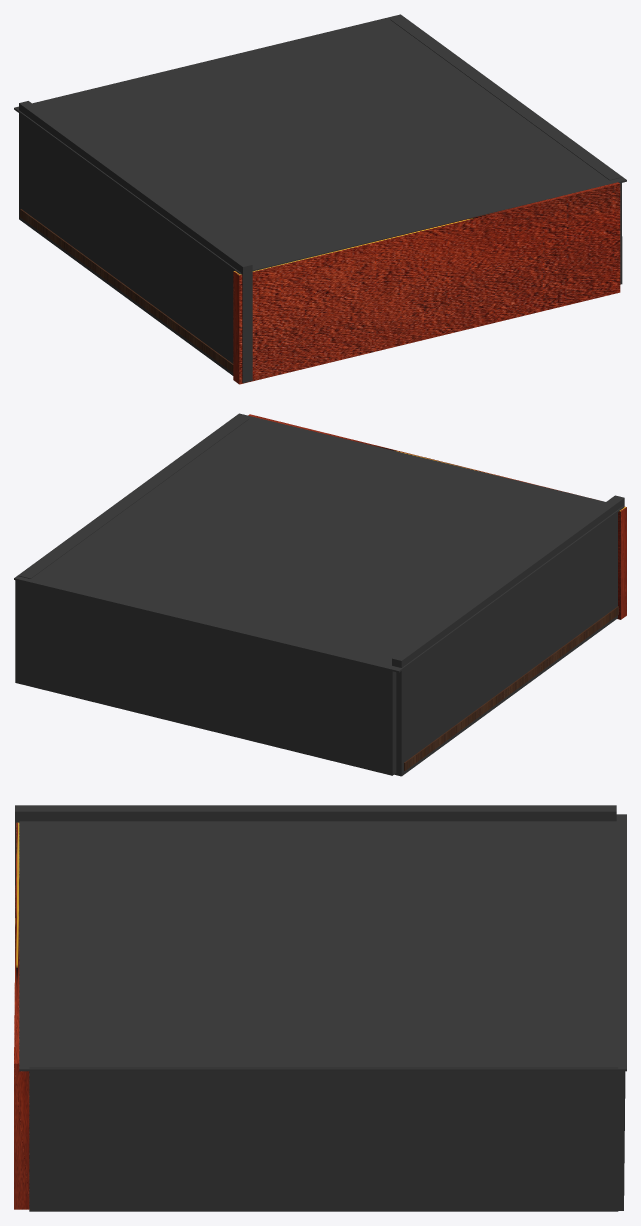
The model's file is map casino forbidden technique (1).fbx.
3 renders of one model, top to bottom at view 1: azimuth 30°, elevation 25°; view 2: azimuth 150°, elevation 25°; view 3: azimuth 270°, elevation 25°, orthographic. The views are drawn at different scales.
Parts seen in each view (by area): view 1: Cube.004; view 2: Cube.004; view 3: Cube.004.
Boxes of the visible parts, left/top/right/bottom form: Cube.004: left=14, top=14, right=626, bottom=384; Cube.004: left=14, top=413, right=626, bottom=776; Cube.004: left=14, top=805, right=626, bottom=1211.
Bounding box in the file's own units: 1828 × 527 × 1859.
8 materials, 7 textured.
